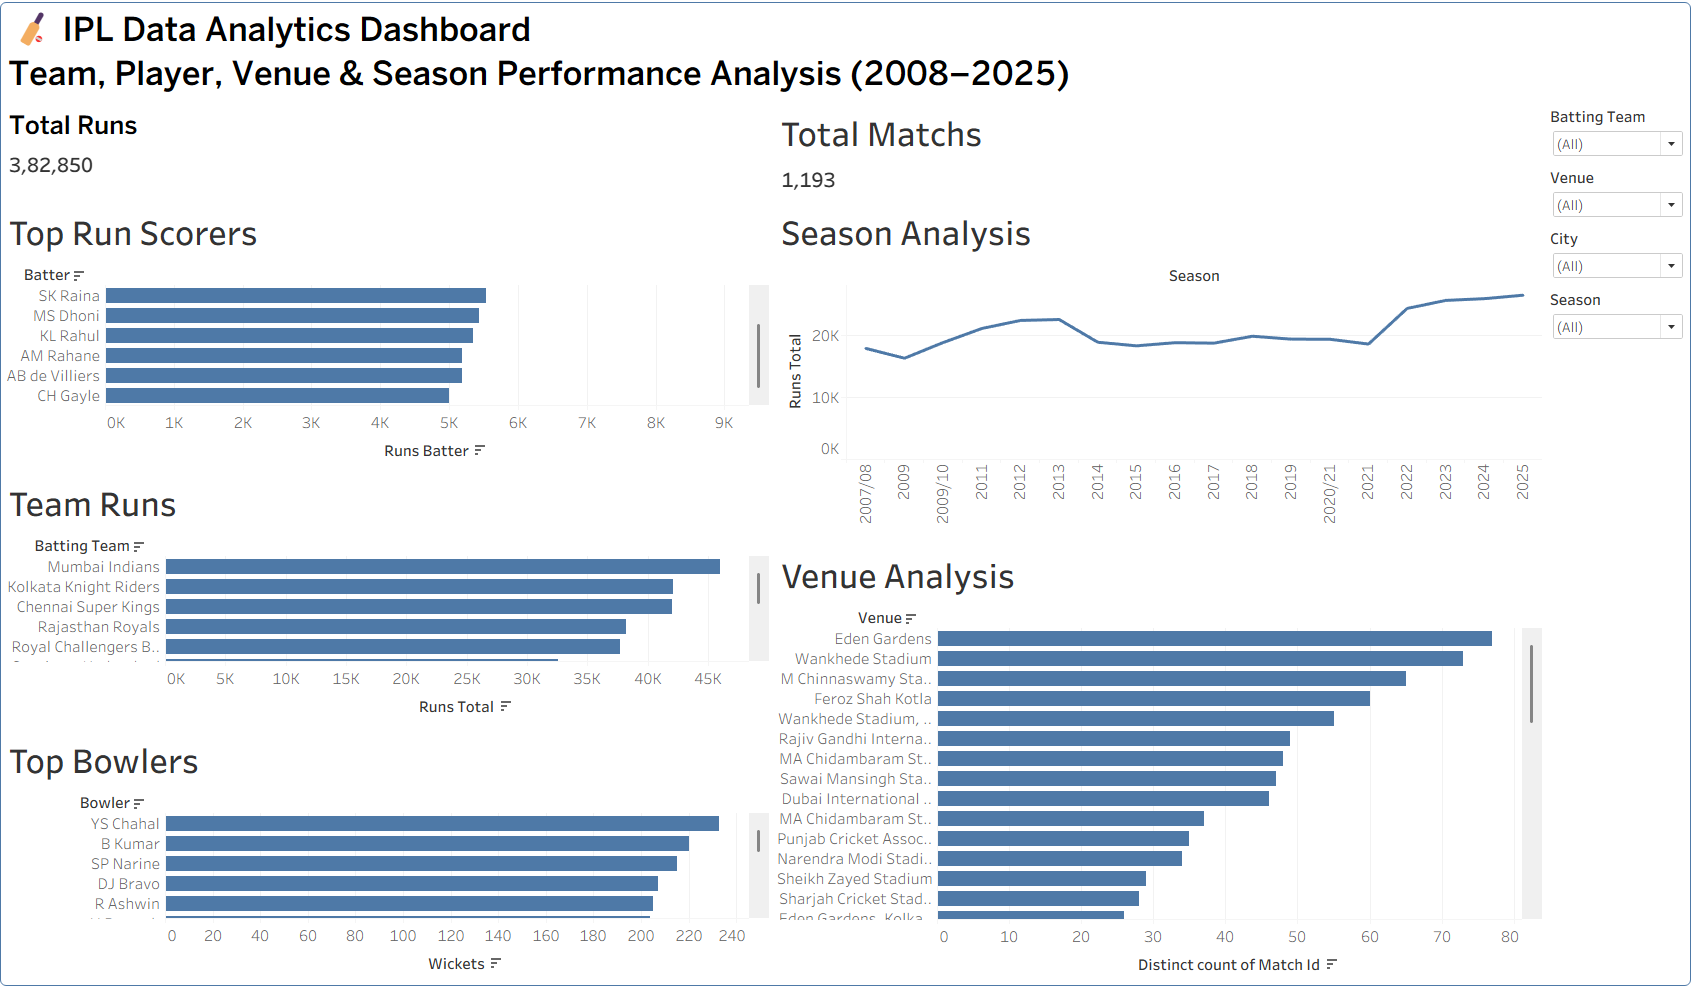

This screenshot's page, from the dashboard's own definition file:
{"tool":"tableau","page":{"name":"Dashboard 1","canvas":[1707,1000],"ordinal":0},"visuals":[{"type":"title","box":[9,9,1689,99]},{"type":"worksheet","title":"Total Runs","mark":"Automatic","box":[9,108,772.3,99]},{"type":"worksheet","title":"Total Matches","mark":"Automatic","box":[781.3,108,772.6,99.3]},{"type":"filter","title":"Team Runs","param":"[federated.1gr5fcx0ddhww1150w5xo10meodt].[none:batting_team:nk]","box":[1554,108,144,61]},{"type":"filter","title":"Team Runs","param":"[federated.1gr5fcx0ddhww1150w5xo10meodt].[none:venue:nk]","box":[1554,169,144,61]},{"type":"worksheet","title":"Top Run Scorers","mark":"Automatic","rows":["batter"],"cols":["runs_batter"],"box":[9,207,772.3,271.3]},{"type":"worksheet","title":"Season Analysis","mark":"Line","rows":["runs_total"],"cols":["season"],"box":[781.3,207.3,772.6,342.2]},{"type":"filter","title":"Team Runs","param":"[federated.1gr5fcx0ddhww1150w5xo10meodt].[none:city:nk]","box":[1554,230,144,61]},{"type":"filter","title":"Team Runs","param":"[federated.1gr5fcx0ddhww1150w5xo10meodt].[none:season:nk]","box":[1554,291,144,61]},{"type":"worksheet","title":"Team Runs","mark":"Automatic","rows":["batting_team"],"cols":["runs_total"],"box":[9,478.3,772.3,256.4]},{"type":"worksheet","title":"Venue Analysis","mark":"Automatic","rows":["venue"],"cols":["match_id"],"box":[781.3,549.5,772.6,441.5]},{"type":"worksheet","title":"Top Bowlers","mark":"Automatic","rows":["bowler"],"cols":["Calculation_1496446698844160"],"box":[9,734.6,772.3,256.4]}]}

Visuals, with their boxes in screenshot pixels (x1, y1, x2, y2), scaled from the page's 1707x1000 canvas onto the 1692x987 screenshot:
title: <bbox>9, 9, 1683, 107</bbox>
"Total Runs" worksheet: <bbox>9, 107, 774, 204</bbox>
"Total Matches" worksheet: <bbox>774, 107, 1540, 205</bbox>
"Team Runs" filter: <bbox>1540, 107, 1683, 167</bbox>
"Team Runs" filter: <bbox>1540, 167, 1683, 227</bbox>
"Top Run Scorers" worksheet: <bbox>9, 204, 774, 472</bbox>
"Season Analysis" worksheet (Line marks): <bbox>774, 205, 1540, 542</bbox>
"Team Runs" filter: <bbox>1540, 227, 1683, 287</bbox>
"Team Runs" filter: <bbox>1540, 287, 1683, 347</bbox>
"Team Runs" worksheet: <bbox>9, 472, 774, 725</bbox>
"Venue Analysis" worksheet: <bbox>774, 542, 1540, 978</bbox>
"Top Bowlers" worksheet: <bbox>9, 725, 774, 978</bbox>
